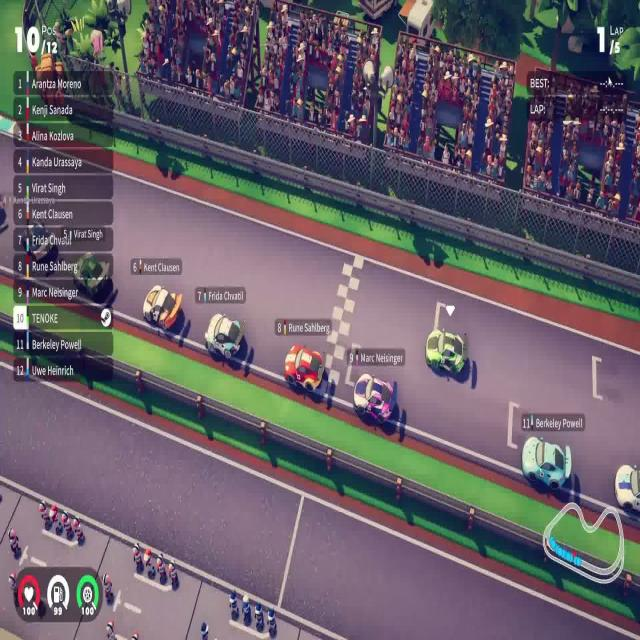car: (521, 434, 572, 492), (352, 372, 395, 426), (424, 326, 466, 376), (203, 312, 244, 362), (284, 342, 324, 393), (142, 283, 182, 332)
